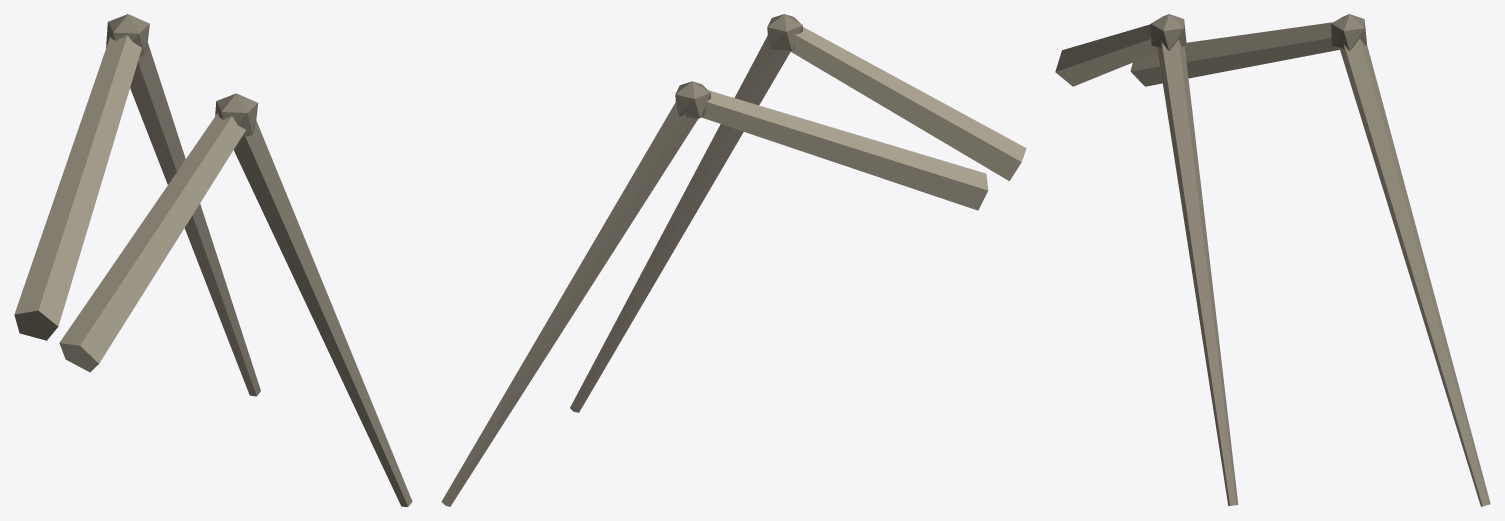
Rendered from spider_2_leg_bl.glb.
3 views of the same model, side by side, from view 1: azimuth 30°, elevation 25°; view 2: azimuth 150°, elevation 25°; view 3: azimuth 270°, elevation 25° (orthographic). The views are drawn at different scales.
Visible parts, largest first — view 1: spider_2_leg_bl; view 2: spider_2_leg_bl; view 3: spider_2_leg_bl.
Part boxes in pixels (x1=…): spider_2_leg_bl: x1=14, y1=14, x2=412, y2=506; spider_2_leg_bl: x1=441, y1=14, x2=1026, y2=506; spider_2_leg_bl: x1=1055, y1=14, x2=1490, y2=506.
Bounding box in the file's own units: 0.639 × 0.6754 × 0.6519.
